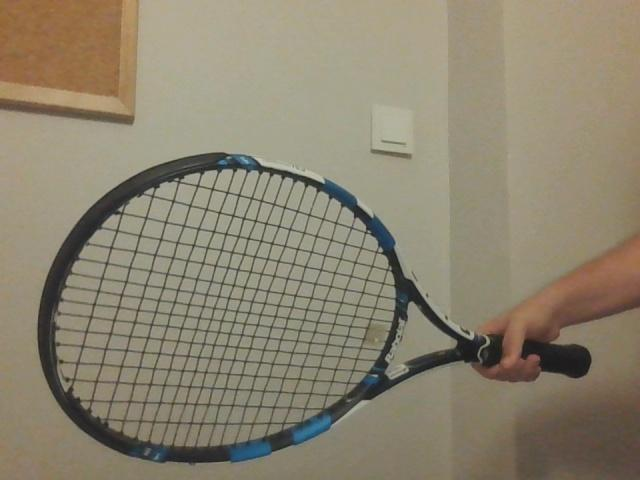Tennis-Racket: (38, 154, 591, 464)
